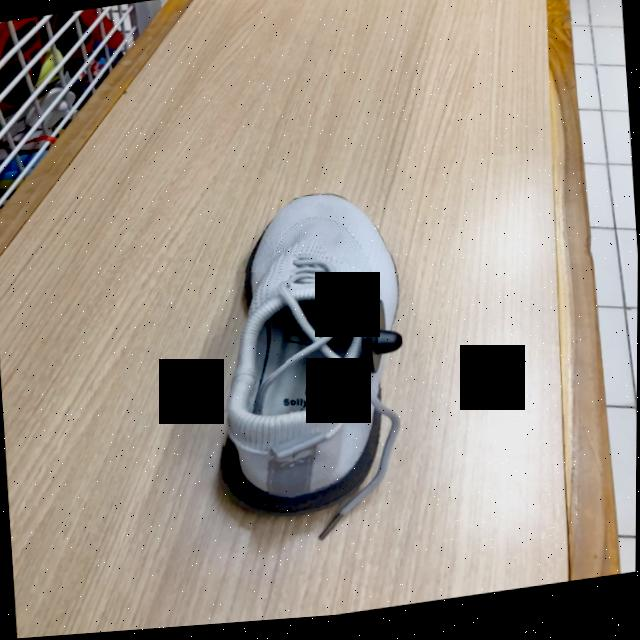shoe: (225, 200, 403, 521)
